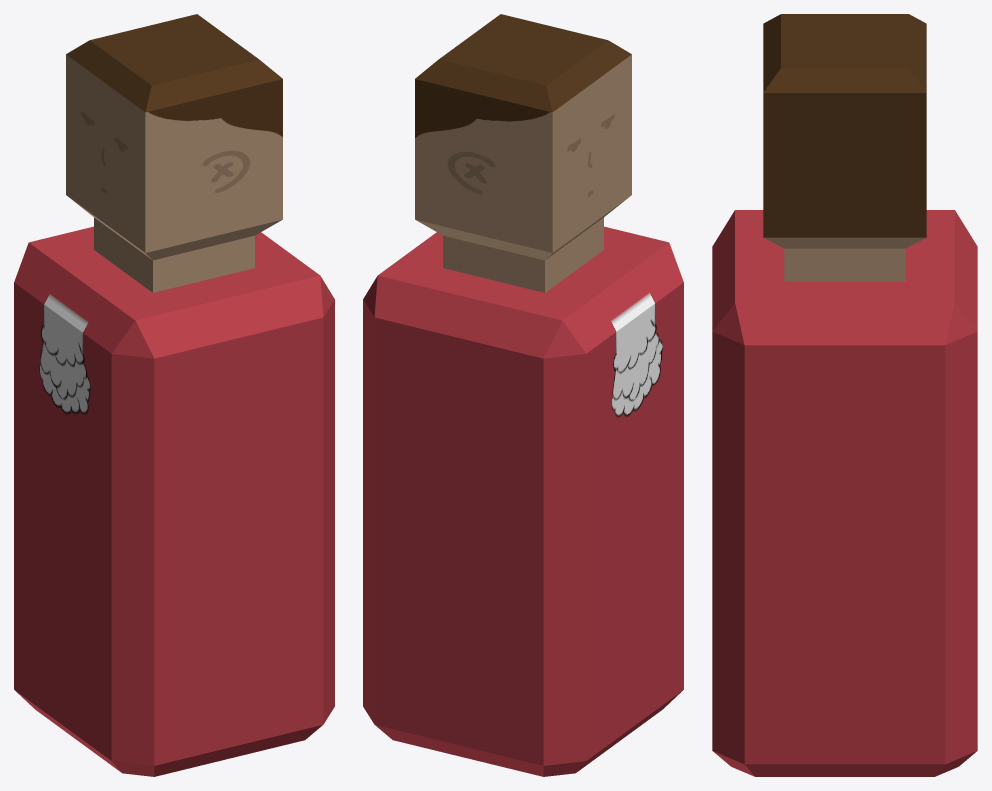
Rendered from prosecutor.glb.
The picture shows the model from 3 angles, left to right: view 1: azimuth 30°, elevation 25°; view 2: azimuth 150°, elevation 25°; view 3: azimuth 270°, elevation 25°; orthographic projection. The views are drawn at different scales.
Visible parts, largest first — view 1: Cube.002; view 2: Cube.002; view 3: Cube.002.
Boxes of the visible parts, <box> form: Cube.002: <box>14,14,334,776</box>; Cube.002: <box>363,14,683,776</box>; Cube.002: <box>712,14,977,776</box>.
Bounding box in the file's own units: 0.6964 × 1.99 × 0.6964.
1 material, 1 textured.
